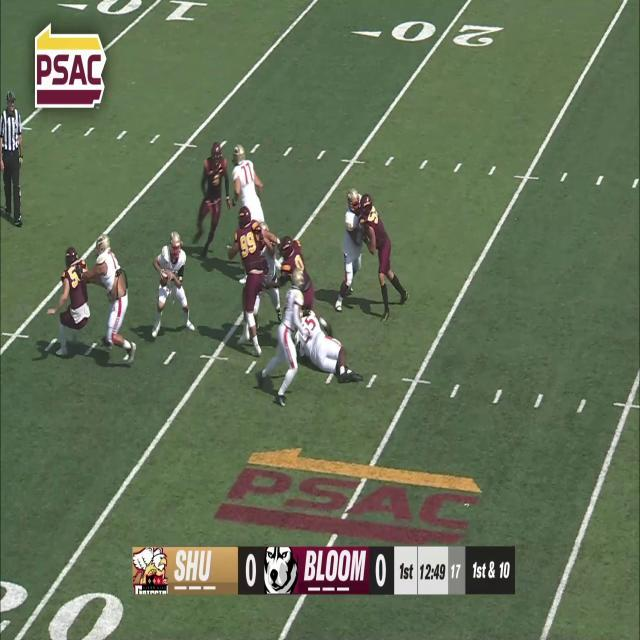football: (158, 268, 169, 287)
